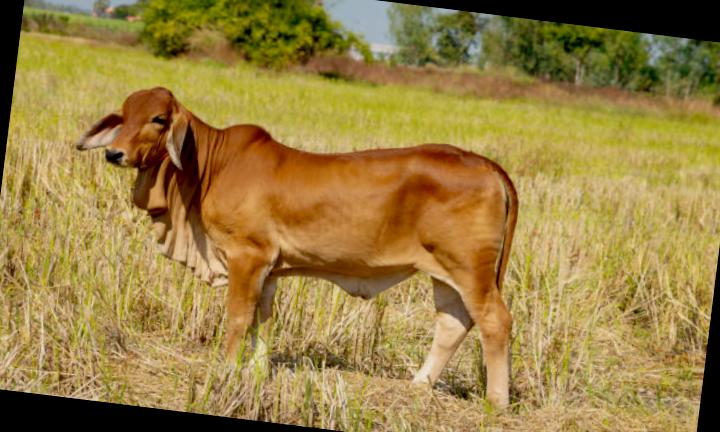Brahman: (76, 87, 517, 404)
